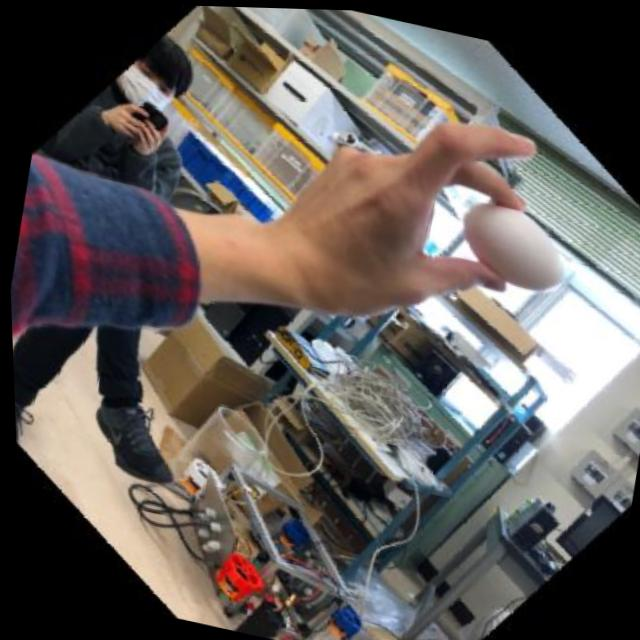egg: (449, 187, 581, 297)
